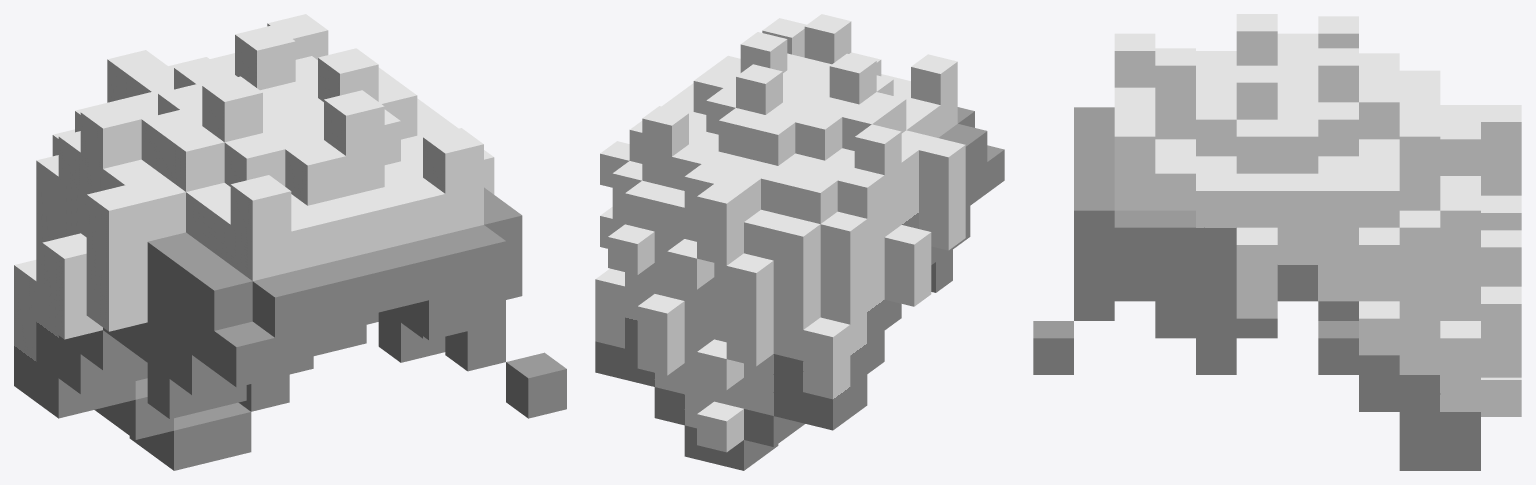
The model's file is wlos7.dae.
3 views of the same model, side by side, from view 1: azimuth 30°, elevation 25°; view 2: azimuth 150°, elevation 25°; view 3: azimuth 270°, elevation 25° (orthographic). The views are drawn at different scales.
Parts seen in each view (by area): view 1: Content; view 2: Content; view 3: Content.
Boxes of the visible parts, x1,y1,x2,y2 form: Content: [14, 14, 566, 470]; Content: [595, 14, 1004, 470]; Content: [1033, 14, 1521, 470].
Size of the model in its own units: 10 by 11 by 12.
1 material, 1 textured.
